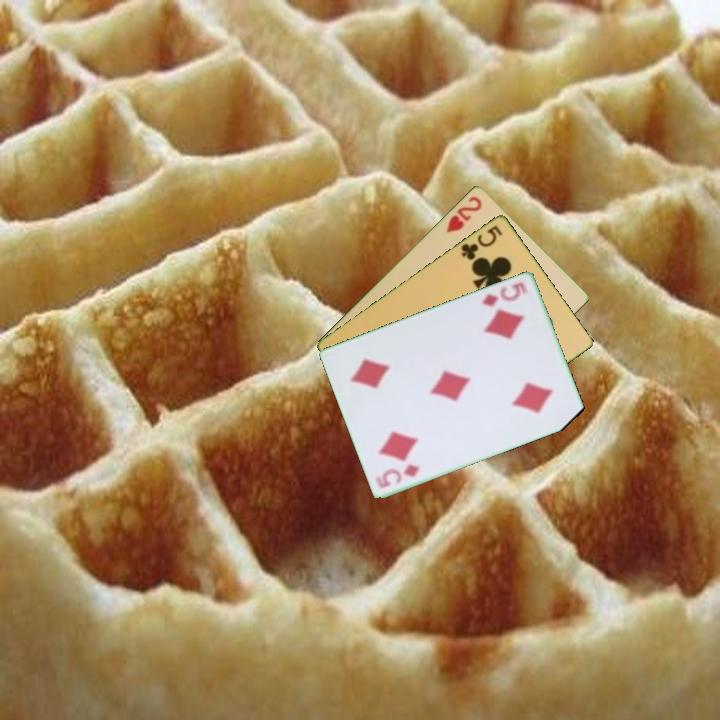2h: (443, 192, 485, 235)
5c: (457, 221, 506, 263)
5d: (478, 278, 530, 309), (372, 459, 422, 491)
